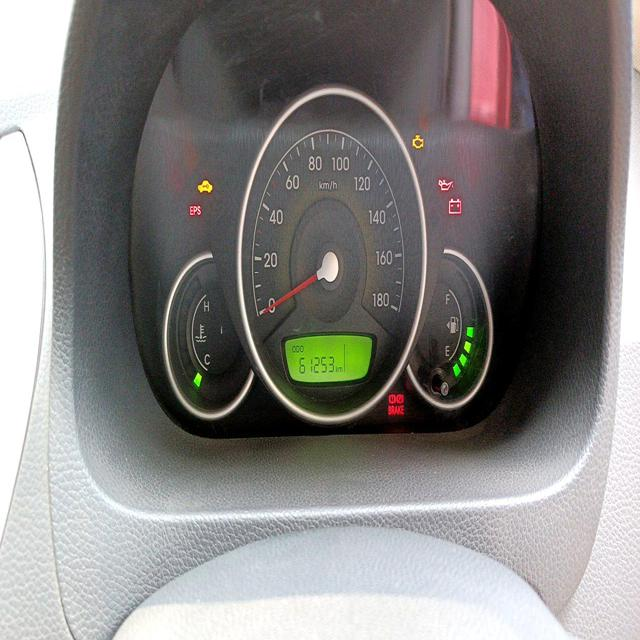odometer: (297, 352, 335, 376)
